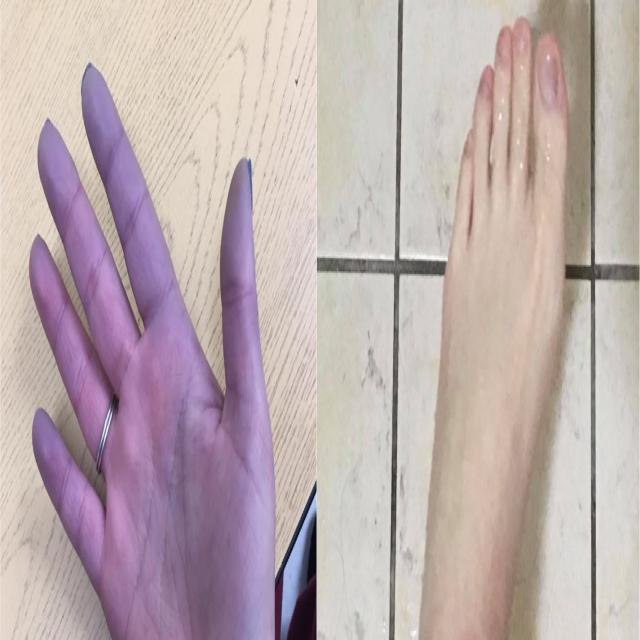raynauds: (12, 56, 264, 640), (442, 14, 580, 347)
